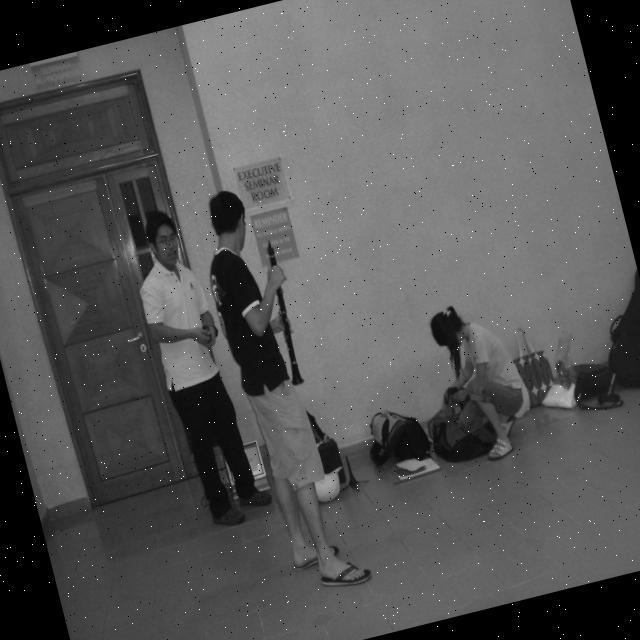clarinet: (255, 238, 312, 388)
